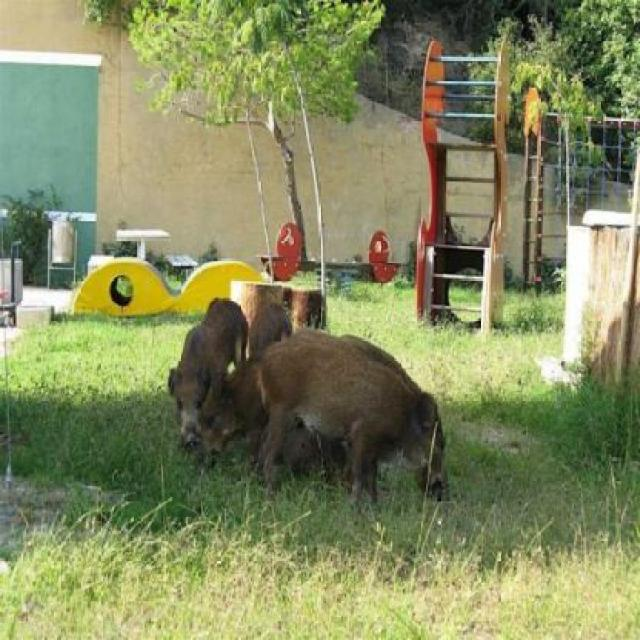pig: (237, 326, 458, 523), (143, 288, 248, 469)
